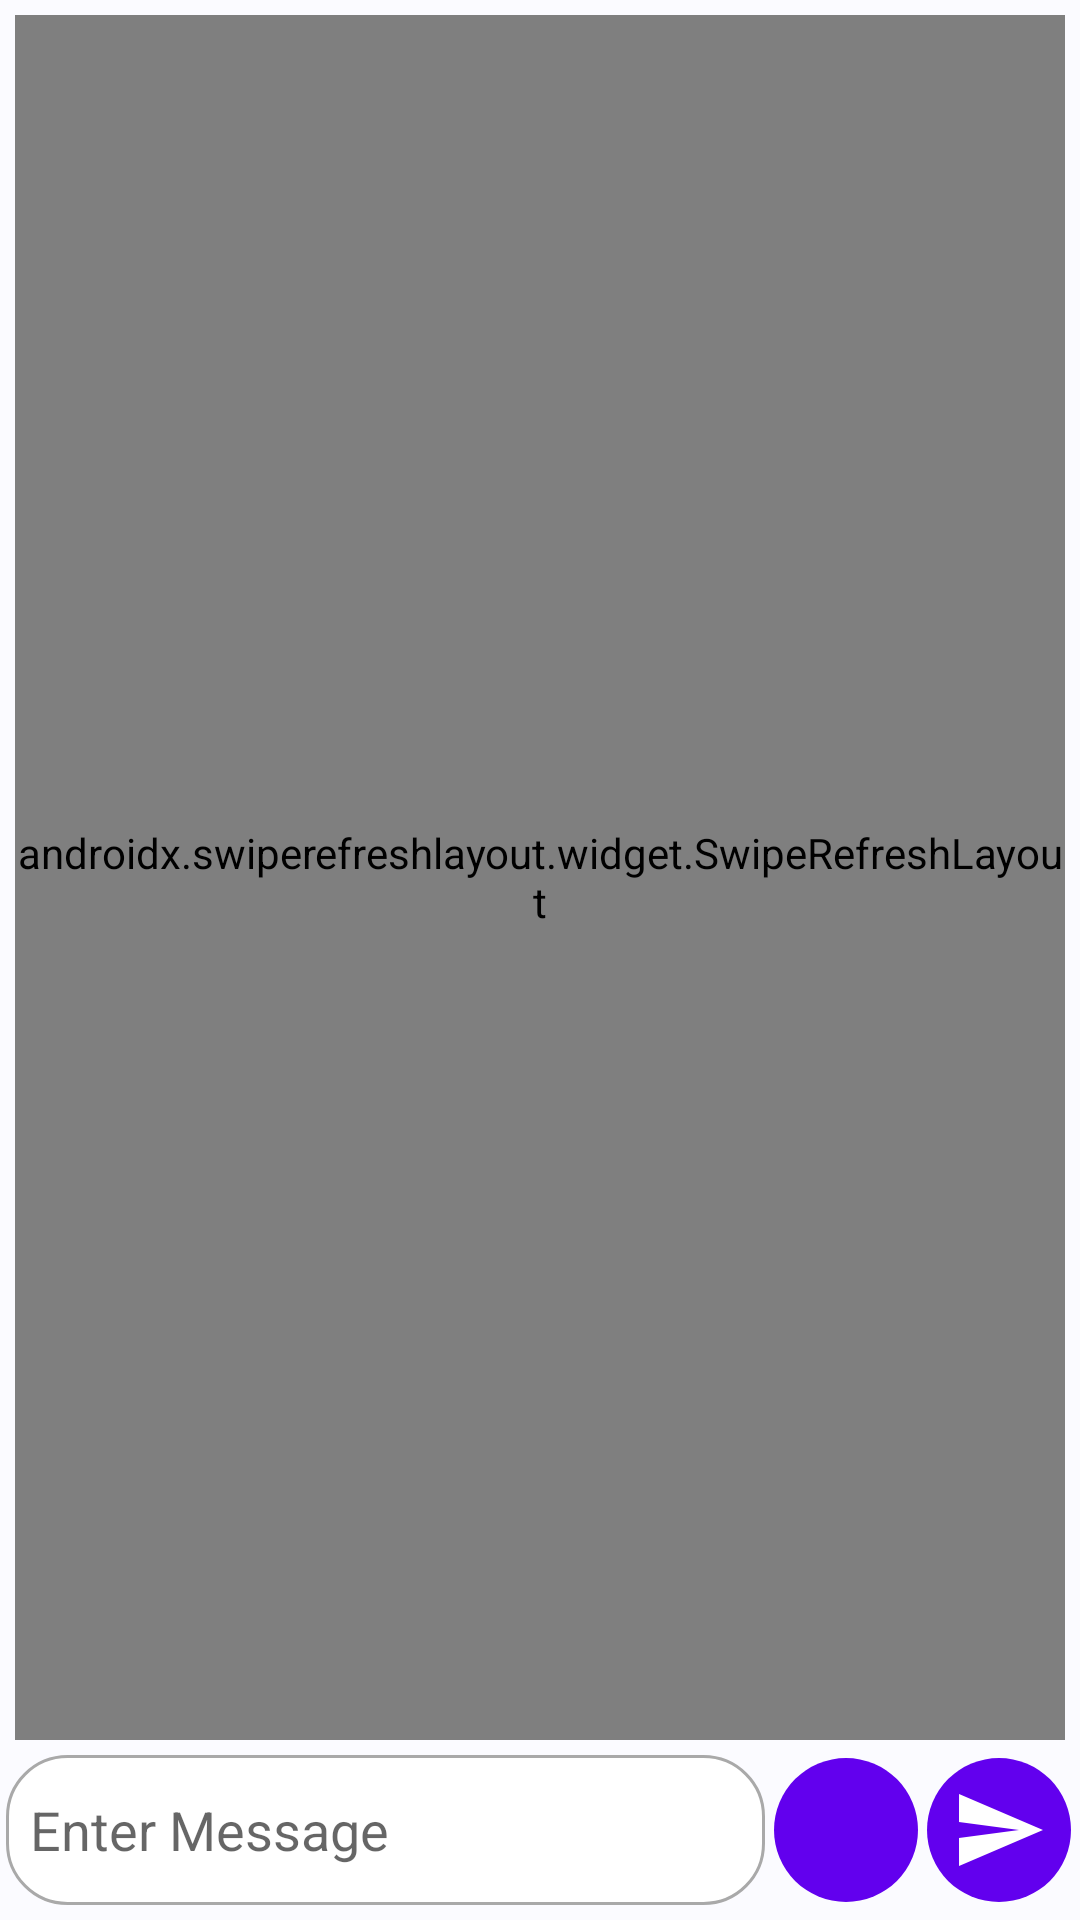

Point at icon controls on the screen. Image size 1080 x 1920, points as (x,y).
send: (999,1830)
